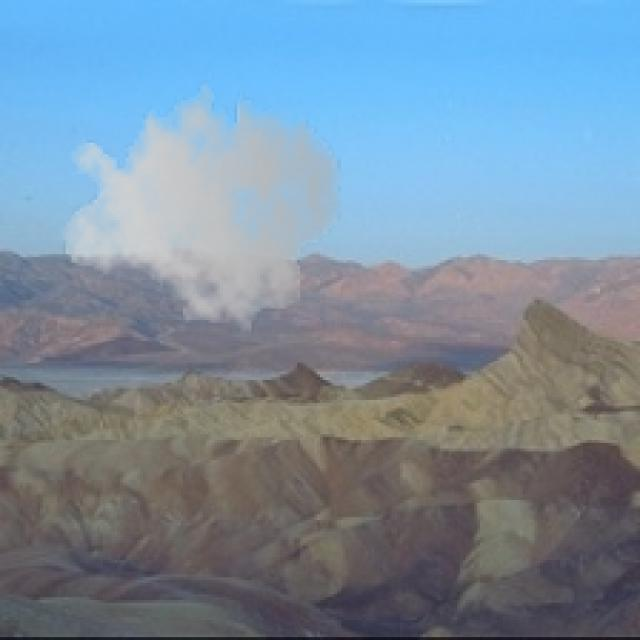smoke: (60, 69, 343, 340)
